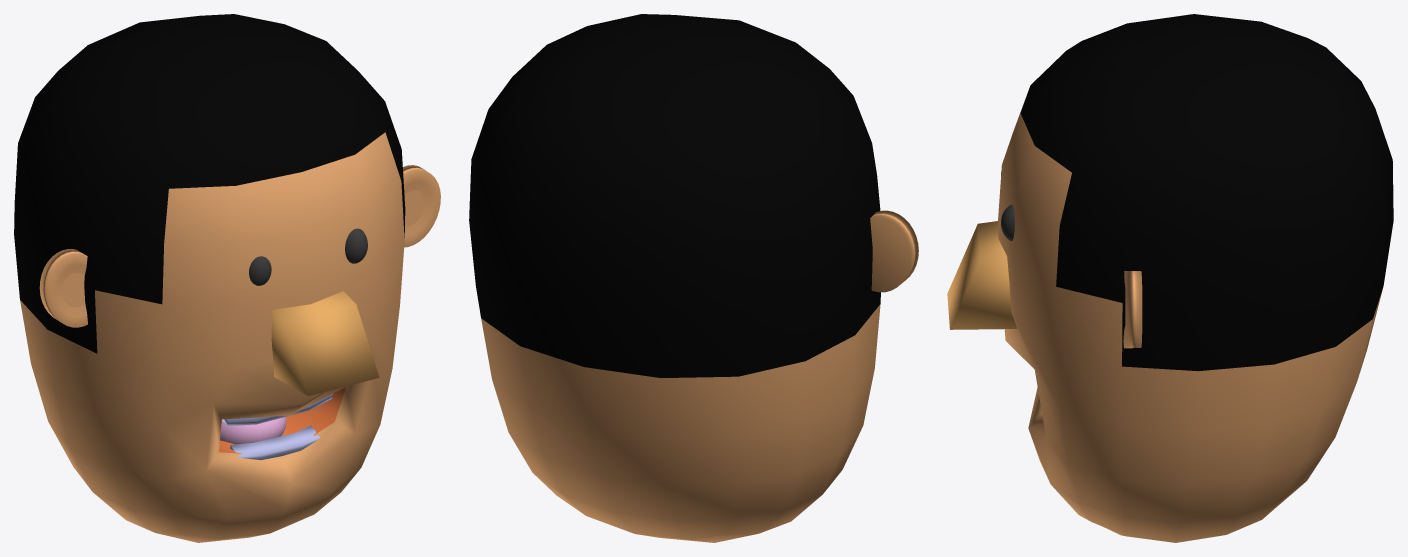
The picture shows the model from 3 angles, left to right: view 1: azimuth 30°, elevation 25°; view 2: azimuth 150°, elevation 25°; view 3: azimuth 270°, elevation 25°; orthographic projection. The views are drawn at different scales.
Visible parts, largest first — view 1: Cube, Cube.001, Cylinder.001, Cylinder, Cube.003, Sphere.001, Sphere, Cube.002, Sphere.002; view 2: Cube, Cylinder.001; view 3: Cube, Cube.001, Cylinder.
Boxes of the visible parts, box(x1,y1,x2,y2) form: Cube: box(14, 14, 405, 542); Cube.001: box(271, 291, 379, 396); Cylinder.001: box(39, 249, 87, 327); Cylinder: box(403, 165, 440, 247); Cube.003: box(230, 425, 319, 460); Sphere.001: box(220, 417, 286, 444); Sphere: box(345, 228, 367, 263); Cube.002: box(222, 394, 332, 425); Sphere.002: box(249, 256, 271, 285); Cube: box(469, 14, 880, 542); Cylinder.001: box(870, 210, 918, 292); Cube: box(997, 14, 1393, 542); Cube.001: box(947, 221, 1017, 329); Cylinder: box(1123, 271, 1142, 348).
Size of the model in its own units: 1.67 by 1.91 by 1.6.
